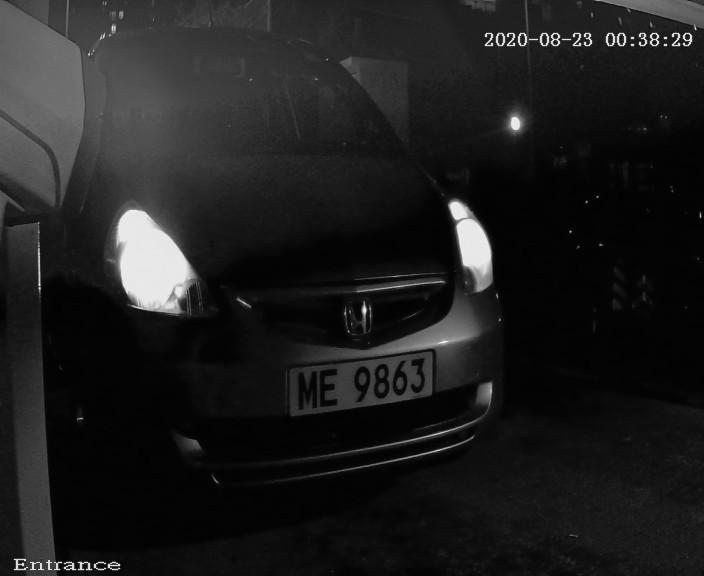Car: (32, 11, 522, 533)
License Plate: (269, 321, 448, 436)
